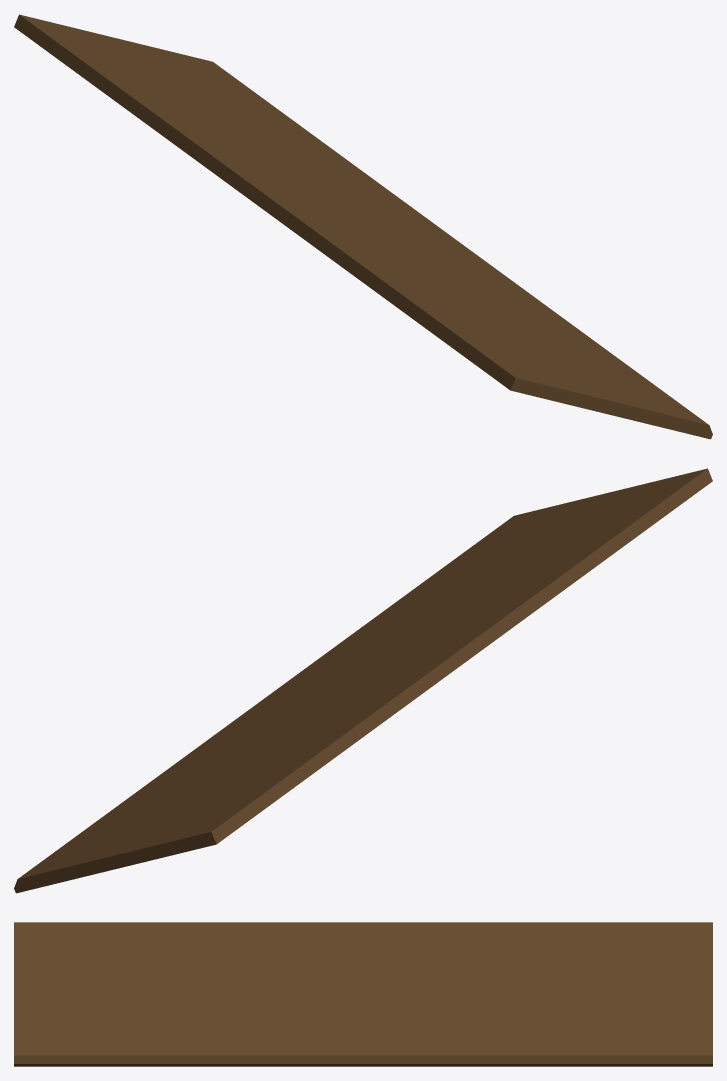
The model's file is env_market_shop_awningroof_01.fbx.
3 renders of one model, top to bottom at view 1: azimuth 30°, elevation 25°; view 2: azimuth 150°, elevation 25°; view 3: azimuth 270°, elevation 25°, orthographic. The views are drawn at different scales.
Parts seen in each view (by area): view 1: Plane.001; view 2: Plane.001; view 3: Plane.001.
Part boxes in pixels (left/top/right/bottom): Plane.001: left=14, top=14, right=712, bottom=439; Plane.001: left=14, top=468, right=712, bottom=893; Plane.001: left=14, top=922, right=712, bottom=1066.
Bounding box in the file's own units: 183 × 94.43 × 777.
